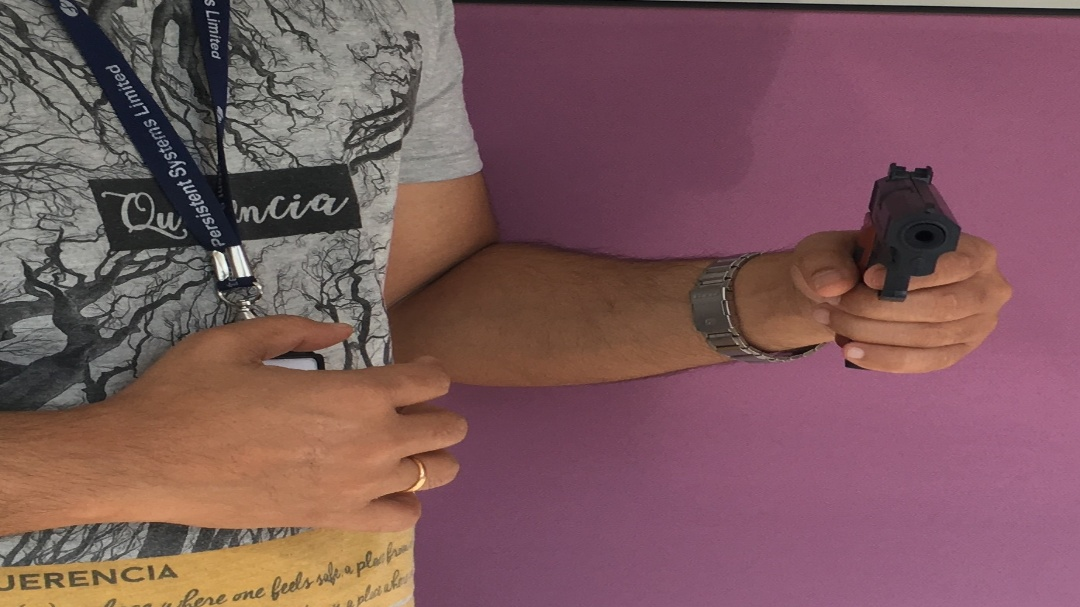gun: (856, 160, 962, 301)
